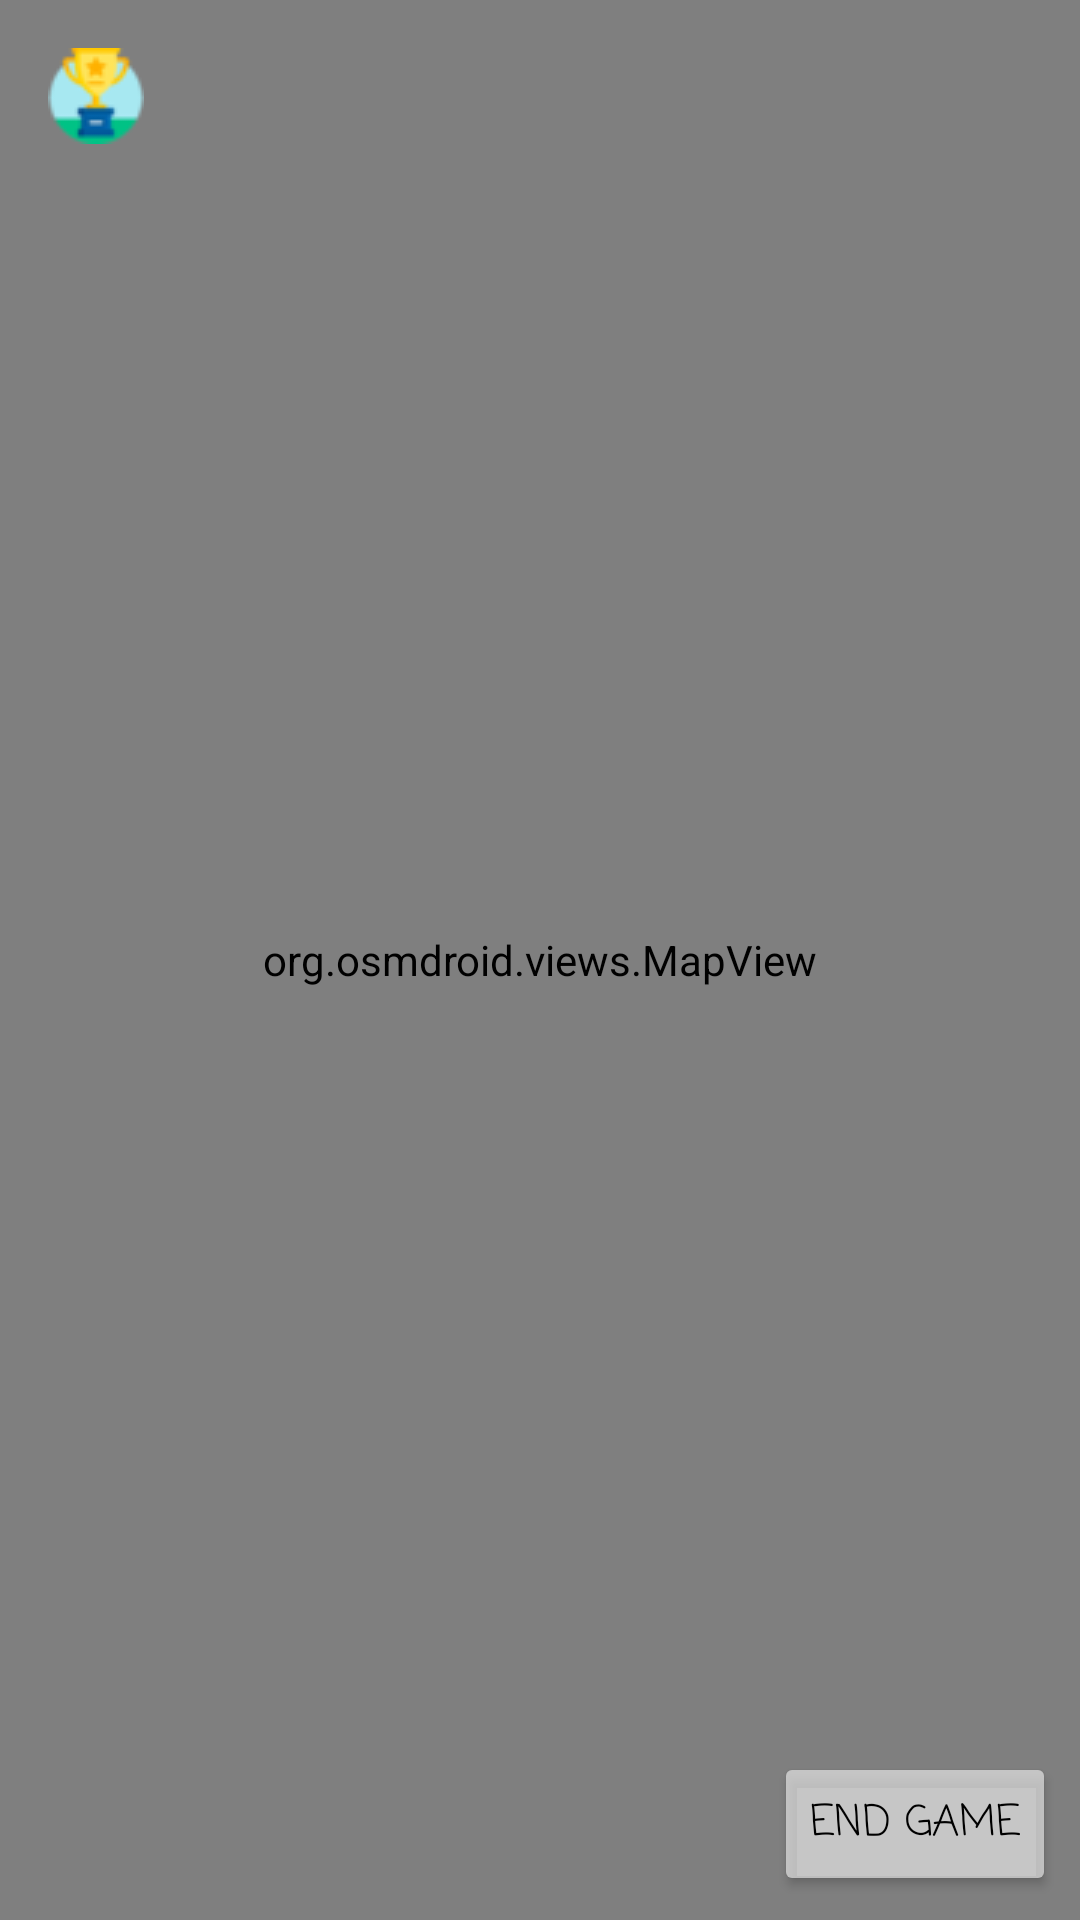

Icon bounding boxes for this 1080px×1920px phone screenshot, format box=[x1, y1, x2, y2]:
trophy: box=[48, 48, 144, 144]
